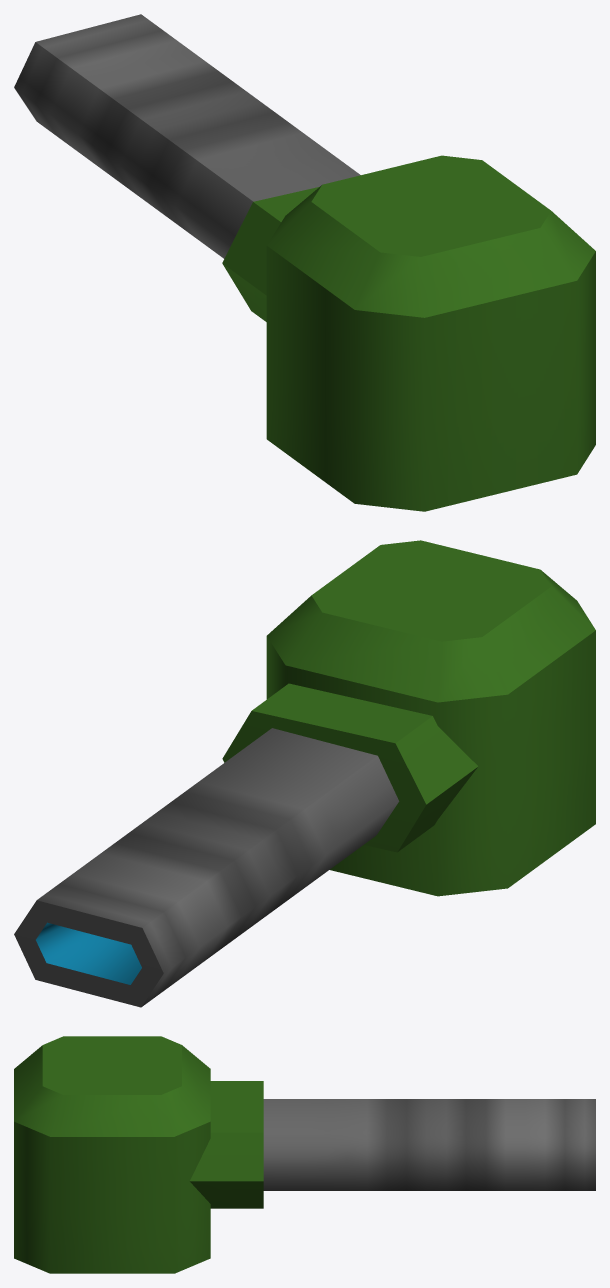
Rendered from MachineGun1Enemy1.fbx.
The picture shows the model from 3 angles, top to bottom: view 1: azimuth 30°, elevation 25°; view 2: azimuth 150°, elevation 25°; view 3: azimuth 270°, elevation 25°; orthographic projection. The views are drawn at different scales.
Parts seen in each view (by area): view 1: MachineGun1Enemy2.001; view 2: MachineGun1Enemy2.001; view 3: MachineGun1Enemy2.001.
Part boxes in pixels (x1,y1,x2,y2): MachineGun1Enemy2.001: [14, 14, 595, 511]; MachineGun1Enemy2.001: [14, 540, 595, 1007]; MachineGun1Enemy2.001: [14, 1036, 595, 1273].
Bounding box in the file's own units: 0.8578 × 0.29 × 0.271.
